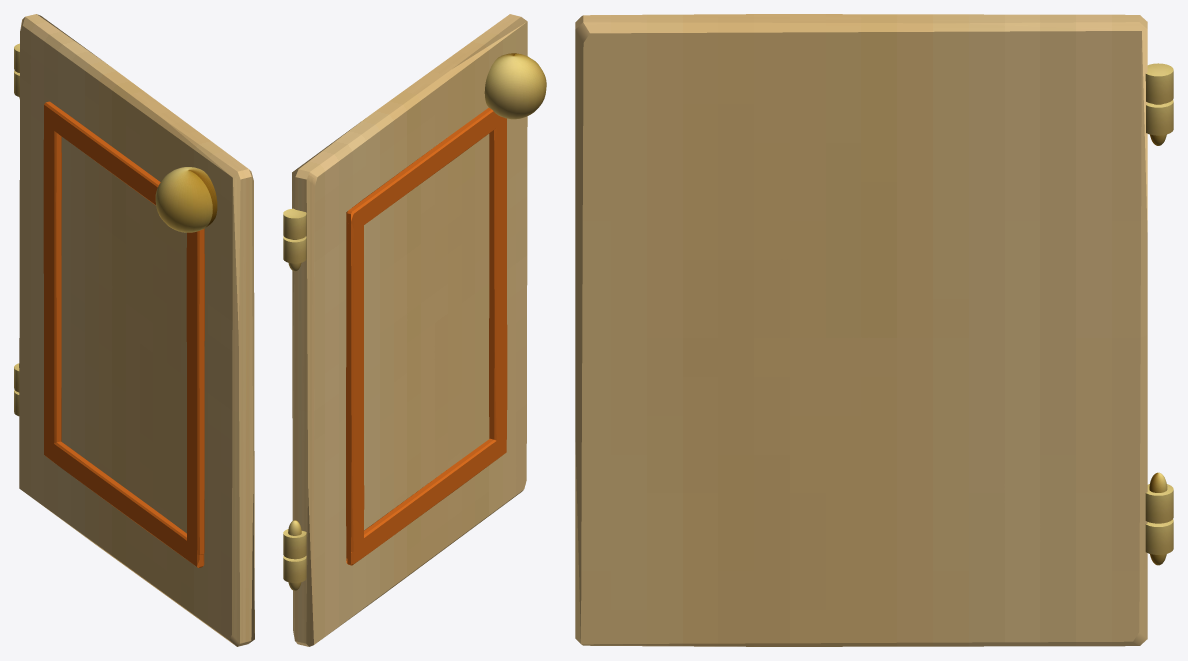
File: gabinete2.obj
3 renders of one model, left to right at view 1: azimuth 30°, elevation 25°; view 2: azimuth 150°, elevation 25°; view 3: azimuth 270°, elevation 25°, orthographic. The views are drawn at different scales.
Parts seen in each view (by area): view 1: cuarto:cuarto:polySurface7193polySurface7484; view 2: cuarto:cuarto:polySurface7193polySurface7484; view 3: cuarto:cuarto:polySurface7193polySurface7484.
Part boxes in pixels (x1,y1,x2,y2): cuarto:cuarto:polySurface7193polySurface7484: [14, 14, 254, 646]; cuarto:cuarto:polySurface7193polySurface7484: [283, 14, 546, 646]; cuarto:cuarto:polySurface7193polySurface7484: [575, 14, 1173, 646].
Bounding box in the file's own units: 0.1729 × 1.17 × 1.02.
3 materials, 3 textured.
